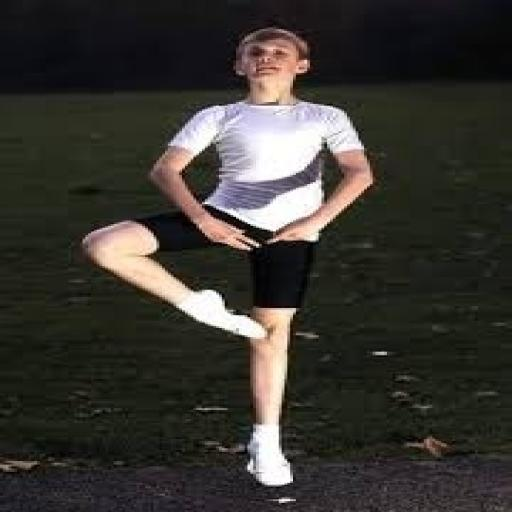dancing: (77, 26, 378, 488)
